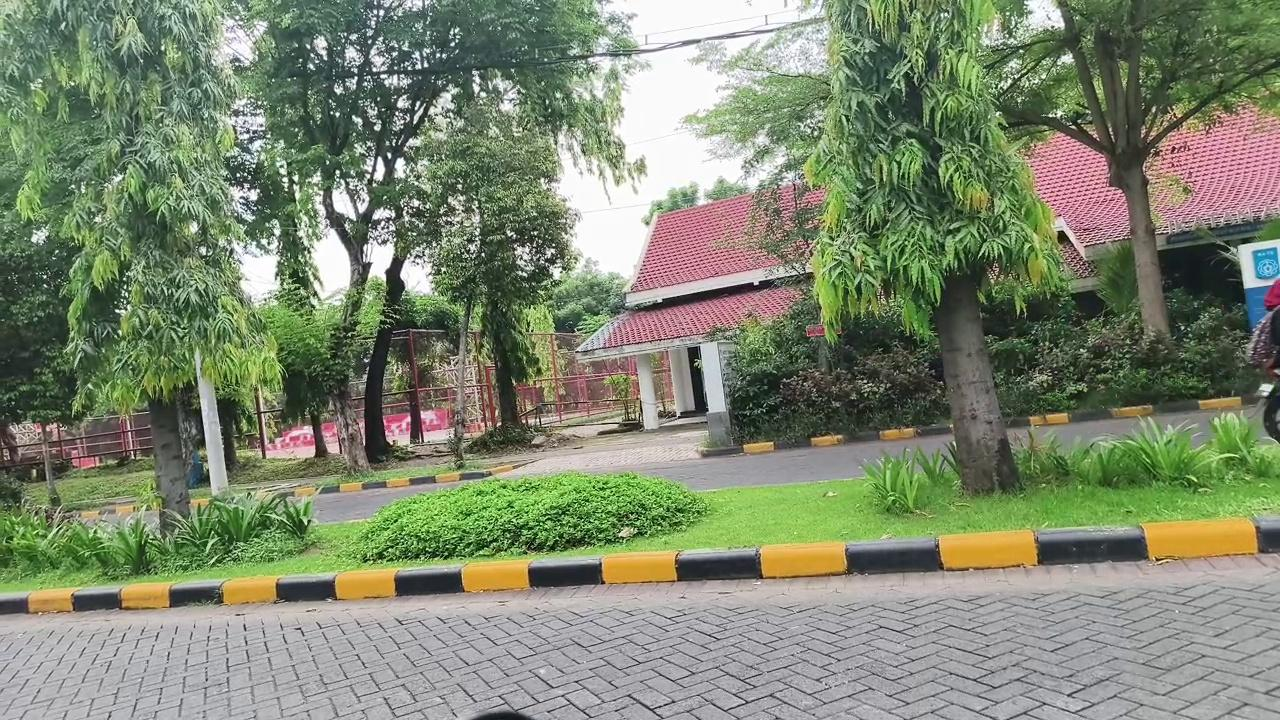Motor: (1257, 367, 1279, 441)
